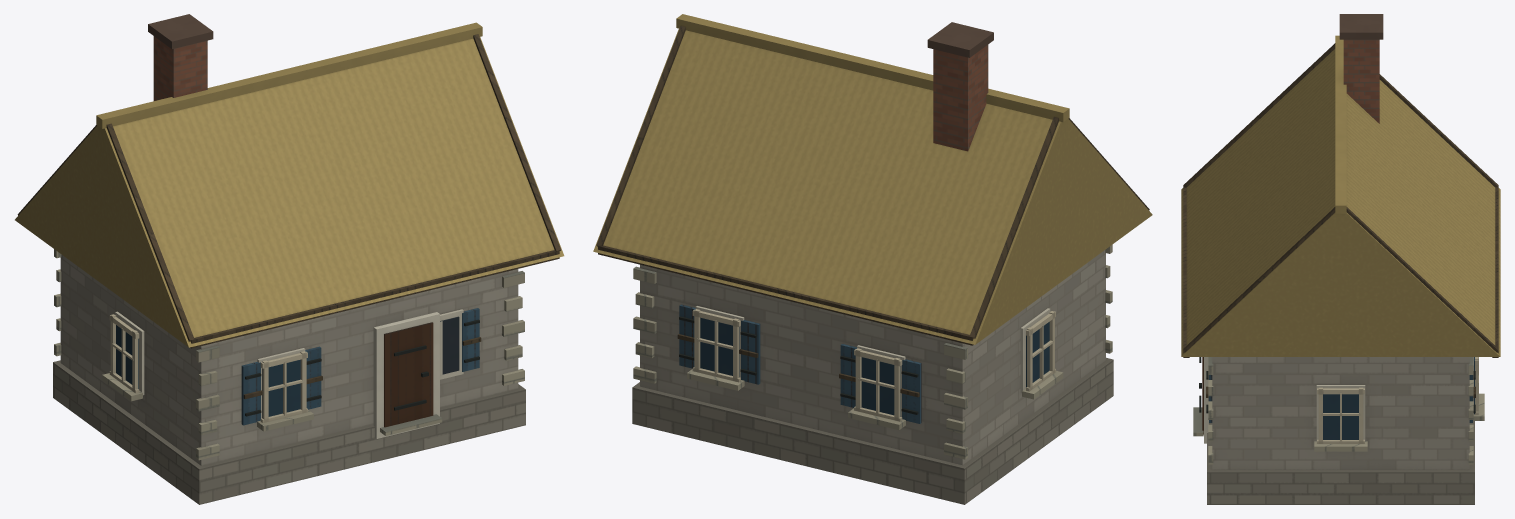
Rendered from cottage.glb.
3 views of the same model, side by side, from view 1: azimuth 30°, elevation 25°; view 2: azimuth 150°, elevation 25°; view 3: azimuth 270°, elevation 25° (orthographic). The views are drawn at different scales.
Visible parts, largest first — view 1: cottage; view 2: cottage; view 3: cottage.
Boxes of the visible parts, x1,y1,x2,y2 form: cottage: (15,14,564,504); cottage: (593,14,1152,504); cottage: (1181,14,1500,504).
Size of the model in its own units: 7.8 by 7.82 by 6.2.
Materials: 1 (1 with a texture image).
